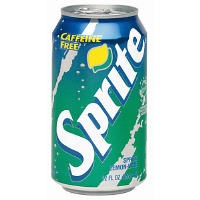grozi_55: (50, 5, 146, 196)
